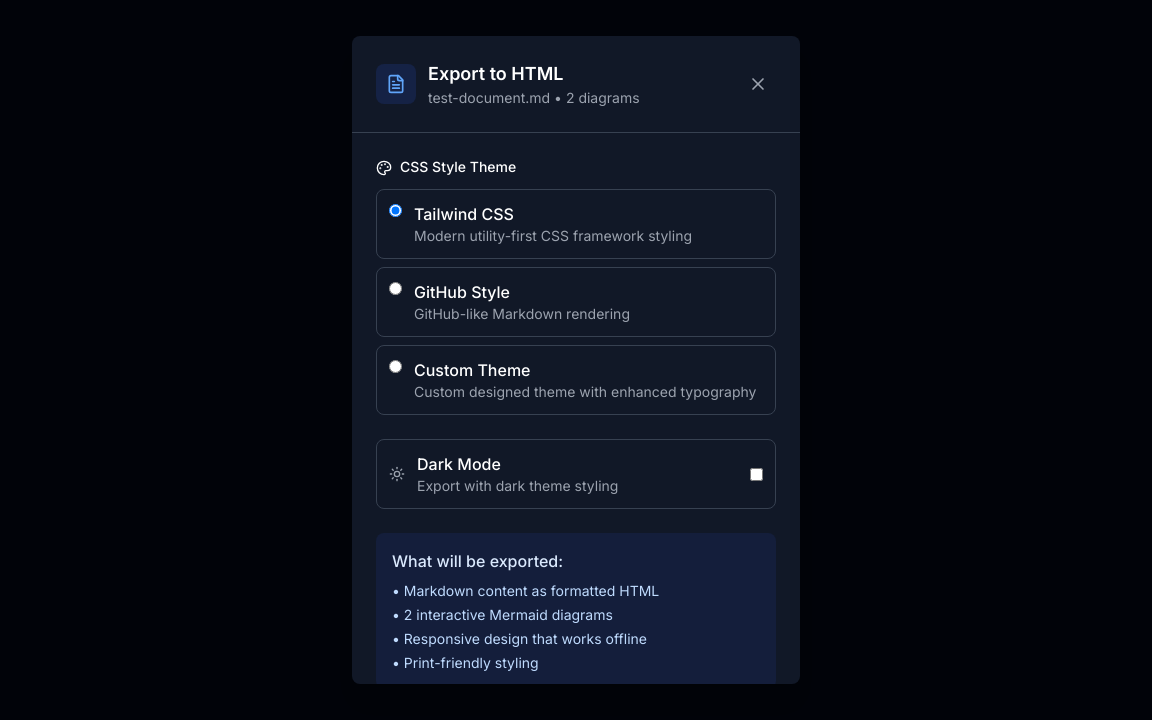
HtmlExportModal › should allow selecting different CSS styles
Click the radio button labelled "GitHub Style GitHub-like Markdown rendering": (396, 288) [389,282,402,295]
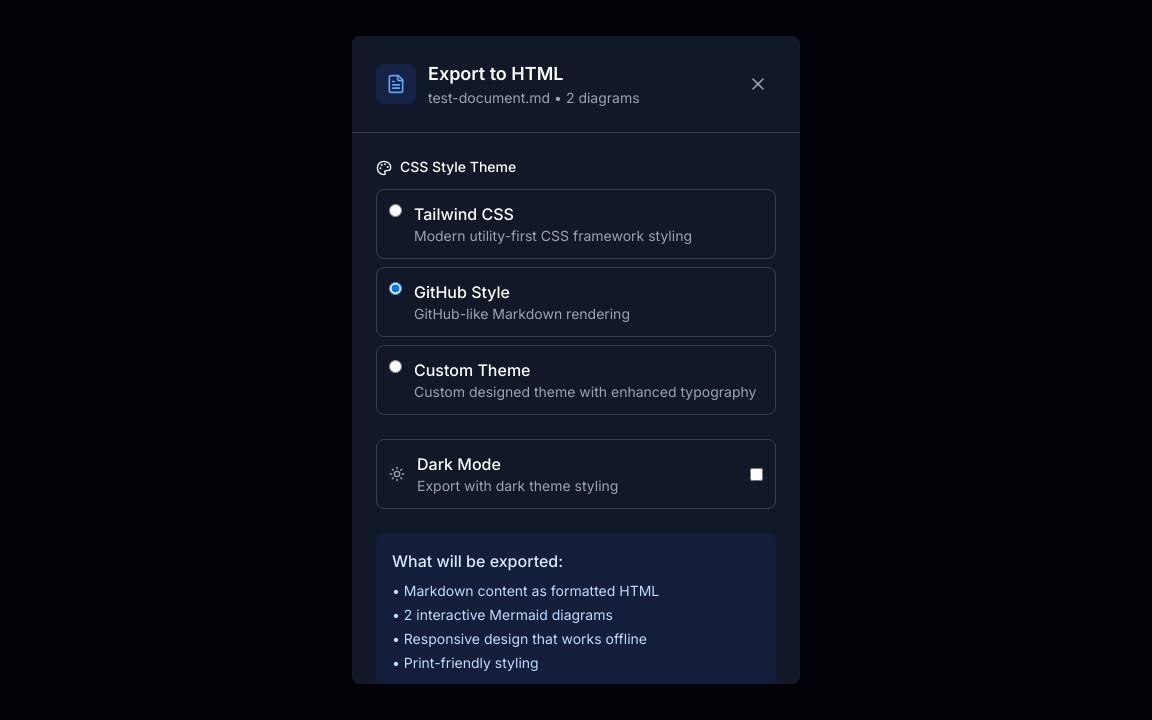
Result: the radio button labelled "GitHub Style GitHub-like Markdown rendering" is checked at [389,282,402,295]
Result: the radio button labelled "Tailwind CSS Modern utility-first CSS framework styling" is not checked at [389,204,402,217]
